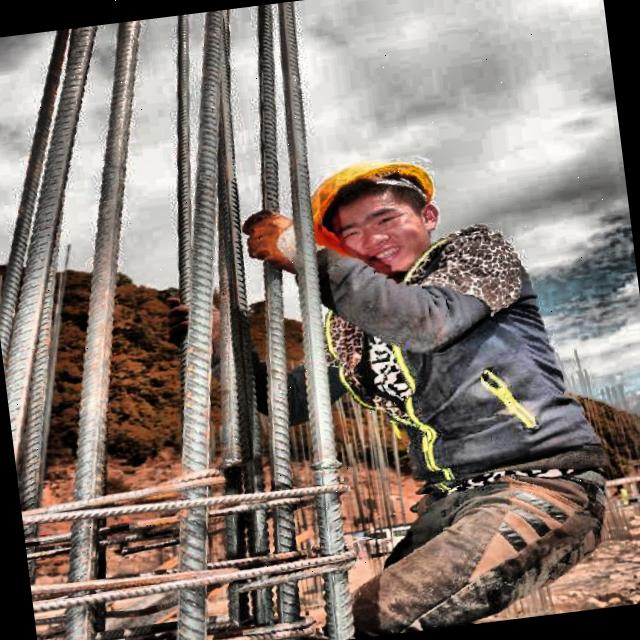helmet: (292, 138, 468, 282)
